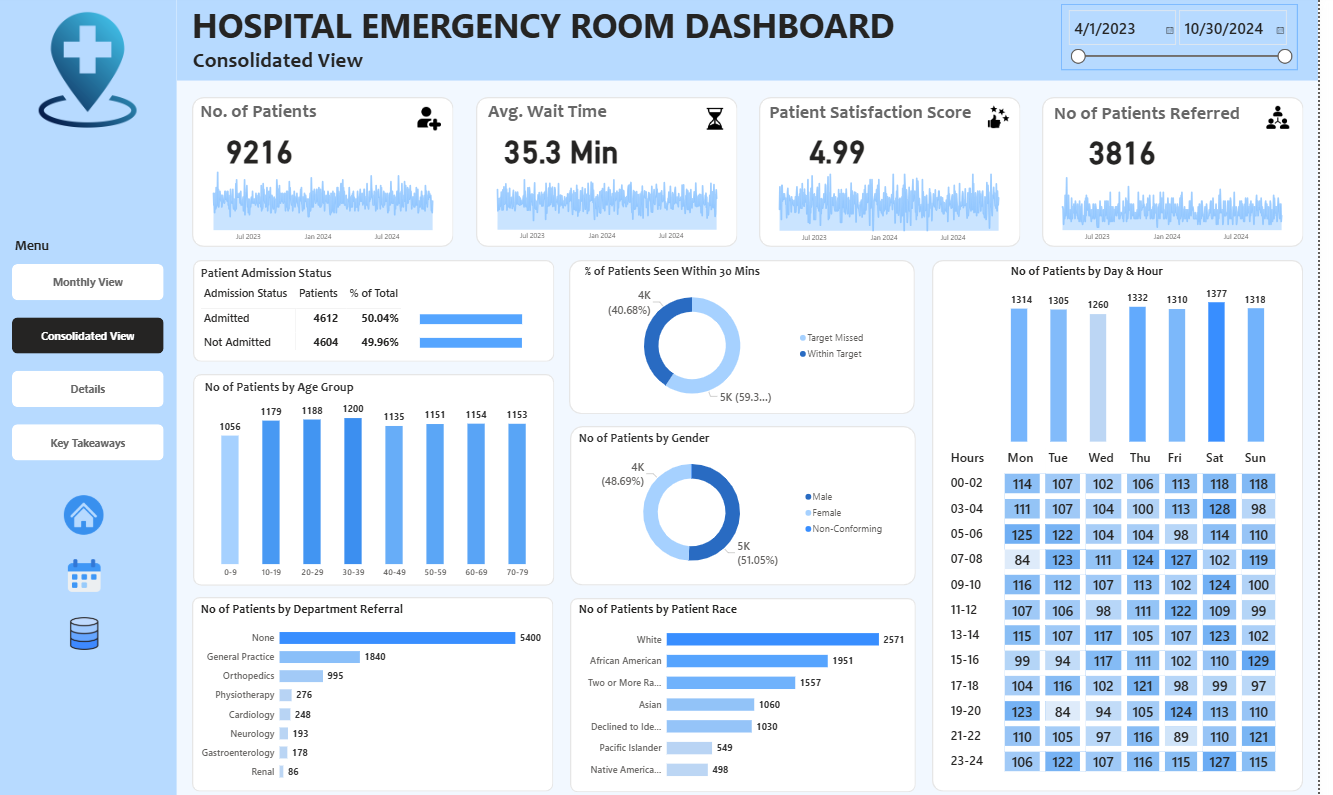

What the dashboard file says about the page in this screenshot:
{"tool":"powerbi","page":{"name":"Consolidated View","canvas":[2300,1400],"ordinal":1},"visuals":[{"type":"shape","box":[338.5,171.3,455.5,261.2],"z":0},{"type":"shape","box":[1324.7,171.3,455.5,261.2],"z":1000},{"type":"shape","box":[0,0,311.3,1399.9],"z":2000},{"type":"shape","box":[831.6,171.3,455.5,261.2],"z":3000},{"type":"card","fields":{"Values":["Hospital ER_Hospital ER.No of Patients"]},"box":[374,225.7,160.9,66.9],"z":4000},{"type":"card","fields":{"Values":["Hospital ER_Hospital ER.Avg Wait Time"]},"box":[869.2,225.7,223.6,66.9],"z":5000},{"type":"card","fields":{"Values":["Avg(Hospital ER_Hospital ER.Patient Satisfaction Score)"]},"box":[1381.4,225.6,160.9,66.9],"z":6000},{"type":"shape","box":[1817.8,171.3,455.5,261.2],"z":7000},{"type":"card","fields":{"Values":["Hospital ER_Hospital ER.Measure"]},"box":[1876.7,227.6,160.9,66.9],"z":8000},{"type":"shape","box":[311.3,0,1989.1,142.1],"z":9000},{"type":"textbox","box":[339.2,171.3,227.8,56.5],"z":10000},{"type":"textbox","box":[841.3,171.3,231.1,56.5],"z":11000},{"type":"textbox","box":[1331.2,172,377.5,55.8],"z":12000},{"type":"textbox","box":[1828.2,173.4,344.8,56.4],"z":13000},{"type":"areaChart","fields":{"Y":["Hospital ER_Hospital ER.No of Patients"],"Category":["Calendar Table.Date.Variation.Date Hierarchy.Year","Calendar Table.Date.Variation.Date Hierarchy.Quarter","Calendar Table.Date.Variation.Date Hierarchy.Month","Calendar Table.Date.Variation.Date Hierarchy.Day"]},"box":[348.4,288.1,435.5,145.2],"z":14000},{"type":"areaChart","fields":{"Category":["Calendar Table.Date.Variation.Date Hierarchy.Year","Calendar Table.Date.Variation.Date Hierarchy.Quarter","Calendar Table.Date.Variation.Date Hierarchy.Month","Calendar Table.Date.Variation.Date Hierarchy.Day"],"Y":["Avg(Hospital ER_Hospital ER.Patient Waittime)"]},"box":[842.1,285.9,435.5,145.2],"z":15000},{"type":"areaChart","fields":{"Category":["Calendar Table.Date.Variation.Date Hierarchy.Year","Calendar Table.Date.Variation.Date Hierarchy.Quarter","Calendar Table.Date.Variation.Date Hierarchy.Month","Calendar Table.Date.Variation.Date Hierarchy.Day"],"Y":["Avg(Hospital ER_Hospital ER.Patient Satisfaction Score)"]},"box":[1333.4,290.4,435.5,142.9],"z":16000},{"type":"areaChart","fields":{"Category":["Calendar Table.Date.Variation.Date Hierarchy.Year","Calendar Table.Date.Variation.Date Hierarchy.Quarter","Calendar Table.Date.Variation.Date Hierarchy.Month","Calendar Table.Date.Variation.Date Hierarchy.Day"],"Y":["Hospital ER_Hospital ER.Measure"]},"box":[1827.1,288.1,435.5,145.2],"z":17000},{"type":"textbox","box":[332.2,0,1294.5,90],"z":18000},{"type":"image","box":[46.9,17.9,218.9,212.2],"z":19000},{"type":"image","box":[1222.3,183.9,52.2,48.1],"z":20000},{"type":"image","box":[724.8,183.1,52.8,51.2],"z":21000},{"type":"image","box":[2198,181.8,62.7,50],"z":22000},{"type":"image","box":[1713.3,179.7,58.5,52.2],"z":23000},{"type":"shape","box":[338.9,455,629.1,177.3],"z":24000},{"type":"shape","box":[994.7,455,602.5,268.3],"z":25000},{"type":"shape","box":[1626.9,455,646.4,925.6],"z":26000},{"type":"shape","box":[996.2,743.7,602.5,277.7],"z":27000},{"type":"donutChart","title":"% of Patients Seen Within 30 Mins","fields":{"Y":["Hospital ER_Hospital ER.No of Patients"],"Category":["Hospital ER_Hospital ER.Waittime Status"]},"box":[1016.6,461,504.4,257.6],"z":28000},{"type":"donutChart","title":"No of Patients by Gender","fields":{"Y":["Hospital ER_Hospital ER.No of Patients"],"Category":["Hospital ER_Hospital ER.Full Gender"]},"box":[1007.2,753.1,547.5,257.3],"z":29000},{"type":"shape","box":[338.9,652.7,629.1,368.7],"z":30000},{"type":"pivotTable","title":"Patient Admission Status","fields":{"Rows":["Hospital ER_Hospital ER.Admission Status"],"Values":["Hospital ER_Hospital ER.No of Patients1","Hospital ER_Hospital ER.No of Patients"]},"box":[347.9,465.5,610,158.3],"z":31000},{"type":"barChart","fields":{"Category":["Hospital ER_Hospital ER.Admission Status"],"Y":["Hospital ER_Hospital ER.No of Patients"]},"box":[729.5,514.6,241.6,120.8],"z":32000},{"type":"clusteredColumnChart","fields":{"Category":["Hospital ER_Hospital ER.Age Group"],"Y":["Hospital ER_Hospital ER.No of Patients"]},"box":[354.6,662.7,599.3,354.6],"z":33000},{"type":"shape","box":[337.3,1041.7,629.1,338.9],"z":34000},{"type":"clusteredBarChart","fields":{"Category":["Hospital ER_Hospital ER.Department Referral"],"Y":["Hospital ER_Hospital ER.No of Patients"]},"box":[348.3,1049.6,602.5,324.8],"z":35000},{"type":"shape","box":[996.5,1043,602.2,338.4],"z":36000},{"type":"clusteredBarChart","fields":{"Y":["Hospital ER_Hospital ER.No of Patients"],"Category":["Hospital ER_Hospital ER.Patient Race"]},"box":[1005.8,1049.2,578.9,324.4],"z":37000},{"type":"pivotTable","fields":{"Columns":["Calendar Table.Day Name"],"Rows":["Hospital ER_Hospital ER.Waittime Interval"],"Values":["Hospital ER_Hospital ER.No of Patients"]},"box":[1649.3,776.3,599.2,583.1],"z":38000},{"type":"clusteredColumnChart","title":"No of Patients by Day & Hour","fields":{"Category":["Calendar Table.Day Name"],"Y":["Hospital ER_Hospital ER.No of Patients"]},"box":[1758.7,461.3,453.4,315.3],"z":39000},{"type":"textbox","box":[333.7,76.1,411.3,59],"z":40000},{"type":"pageNavigator","box":[24.2,462.3,264.1,343.1],"z":41000},{"type":"textbox","box":[24.2,409.1,99.9,48.3],"z":42000},{"type":"textbox","box":[77.3,1261.1,146.6,37],"z":43000},{"type":"textbox","box":[26.1,1290.3,306.5,62.7],"z":44000},{"type":"textbox","box":[29,1336.8,257.7,45.1],"z":45000},{"type":"image","box":[110.1,854.1,79.5,87.7],"z":46000},{"type":"image","box":[116.2,966.2,67.3,75.4],"z":47000},{"type":"image","box":[116.2,1068.1,67.3,75.4],"z":48000},{"type":"slicer","fields":{"Values":["Calendar Table.Date"]},"box":[1851.2,8.4,411.6,114.9],"z":50000}]}

Visuals, with their boxes in screenshot pixels (x1, y1, x2, y2), scaled from the page's 2300x1400 canvas onto the 1333x795 screenshot:
shape: bbox(196, 97, 460, 246)
shape: bbox(768, 97, 1032, 246)
shape: bbox(0, 0, 180, 794)
shape: bbox(482, 97, 746, 246)
card - Hospital ER_Hospital ER.No of Patients: bbox(217, 128, 310, 166)
card - Hospital ER_Hospital ER.Avg Wait Time: bbox(504, 128, 633, 166)
card - Avg(Hospital ER_Hospital ER.Patient Satisfaction Score): bbox(801, 128, 894, 166)
shape: bbox(1054, 97, 1318, 246)
card - Hospital ER_Hospital ER.Measure: bbox(1088, 129, 1181, 167)
shape: bbox(180, 0, 1332, 81)
textbox: bbox(197, 97, 329, 129)
textbox: bbox(488, 97, 622, 129)
textbox: bbox(772, 98, 990, 129)
textbox: bbox(1060, 98, 1259, 130)
areaChart - Hospital ER_Hospital ER.No of Patients x Calendar Table.Date.Variation.Date Hierarchy.Year: bbox(202, 164, 454, 246)
areaChart - Calendar Table.Date.Variation.Date Hierarchy.Year x Calendar Table.Date.Variation.Date Hierarchy.Quarter: bbox(488, 162, 740, 245)
areaChart - Calendar Table.Date.Variation.Date Hierarchy.Year x Calendar Table.Date.Variation.Date Hierarchy.Quarter: bbox(773, 165, 1025, 246)
areaChart - Calendar Table.Date.Variation.Date Hierarchy.Year x Calendar Table.Date.Variation.Date Hierarchy.Quarter: bbox(1059, 164, 1311, 246)
textbox: bbox(193, 0, 943, 51)
image: bbox(27, 10, 154, 131)
image: bbox(708, 104, 739, 132)
image: bbox(420, 104, 451, 133)
image: bbox(1274, 103, 1310, 132)
image: bbox(993, 102, 1027, 132)
shape: bbox(196, 258, 561, 359)
shape: bbox(576, 258, 926, 411)
shape: bbox(943, 258, 1318, 784)
shape: bbox(577, 422, 927, 580)
"% of Patients Seen Within 30 Mins" donutChart: bbox(589, 262, 882, 408)
"No of Patients by Gender" donutChart: bbox(584, 428, 901, 574)
shape: bbox(196, 371, 561, 580)
"Patient Admission Status" pivotTable: bbox(202, 264, 555, 354)
barChart - Hospital ER_Hospital ER.Admission Status x Hospital ER_Hospital ER.No of Patients: bbox(423, 292, 563, 361)
clusteredColumnChart - Hospital ER_Hospital ER.Age Group x Hospital ER_Hospital ER.No of Patients: bbox(206, 376, 553, 578)
shape: bbox(195, 592, 560, 784)
clusteredBarChart - Hospital ER_Hospital ER.Department Referral x Hospital ER_Hospital ER.No of Patients: bbox(202, 596, 551, 780)
shape: bbox(578, 592, 927, 784)
clusteredBarChart - Hospital ER_Hospital ER.No of Patients x Hospital ER_Hospital ER.Patient Race: bbox(583, 596, 918, 780)
pivotTable - Calendar Table.Day Name x Hospital ER_Hospital ER.Waittime Interval: bbox(956, 441, 1303, 772)
"No of Patients by Day & Hour" clusteredColumnChart: bbox(1019, 262, 1282, 441)
textbox: bbox(193, 43, 432, 77)
pageNavigator: bbox(14, 263, 167, 457)
textbox: bbox(14, 232, 72, 260)
textbox: bbox(45, 716, 130, 737)
textbox: bbox(15, 733, 193, 768)
textbox: bbox(17, 759, 166, 785)
image: bbox(64, 485, 110, 535)
image: bbox(67, 549, 106, 591)
image: bbox(67, 607, 106, 649)
slicer - Calendar Table.Date: bbox(1073, 5, 1311, 70)
